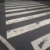zebra: (5, 1, 49, 49)
